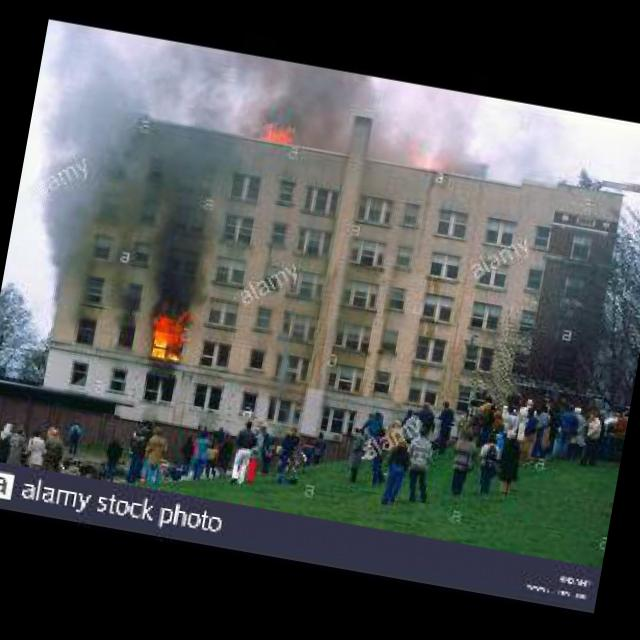fire: (146, 312, 196, 362), (256, 114, 296, 146), (411, 150, 444, 170)
smoke: (10, 19, 263, 318), (291, 62, 425, 171), (424, 90, 482, 181)
